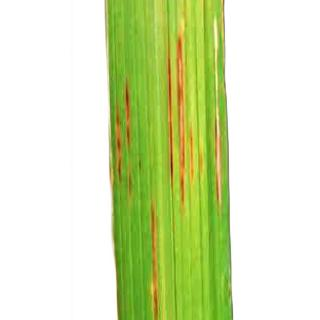Bercak-Cokelat-Sempit: (165, 26, 207, 214), (112, 72, 137, 194), (145, 198, 161, 320), (214, 107, 223, 209)
